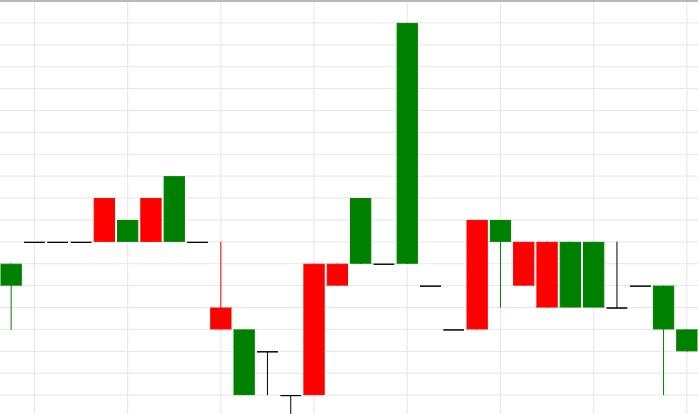bearish_engulfing_fall: (0, 176, 186, 330)
hanging_man_fall: (442, 219, 511, 331)
